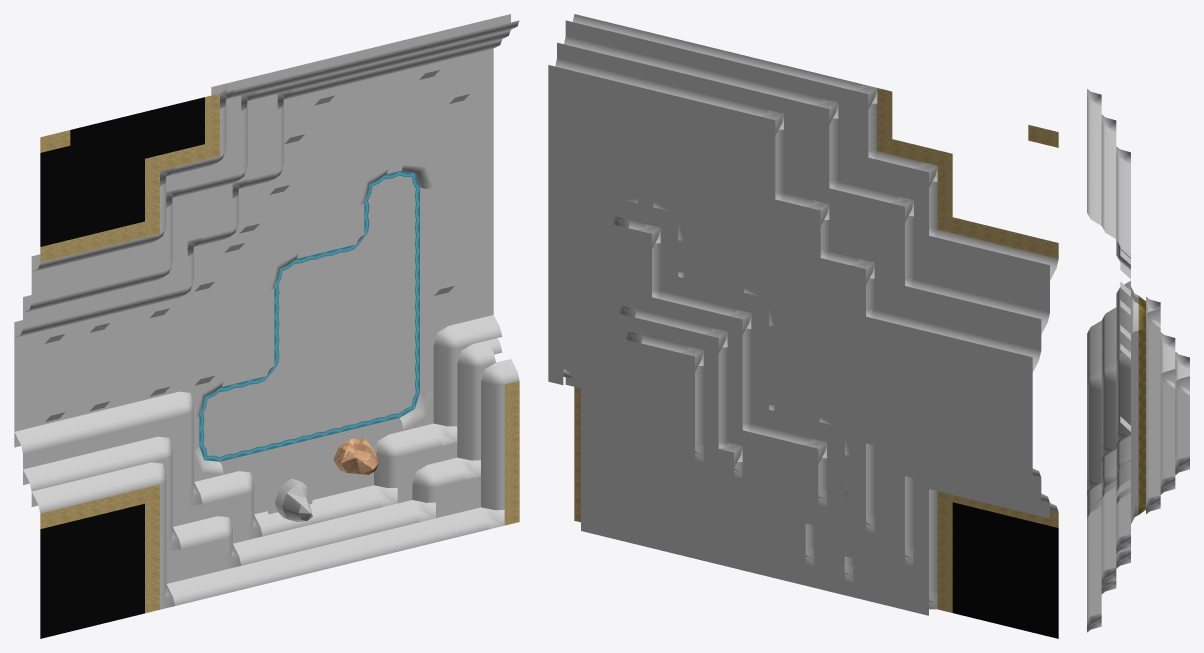
Rendered from Uluru-Cave-3_02_02.obj.
3 views of the same model, side by side, from view 1: azimuth 30°, elevation 25°; view 2: azimuth 150°, elevation 25°; view 3: azimuth 270°, elevation 25° (orthographic). The views are drawn at different scales.
Visible parts, largest first — view 1: map; view 2: map; view 3: map.
Boxes of the visible parts, x1,y1,x2,y2 form: map: (14,14,519,638); map: (548,14,1058,638); map: (1087,89,1189,632).
Size of the model in its own units: 32 by 32 by 7.
